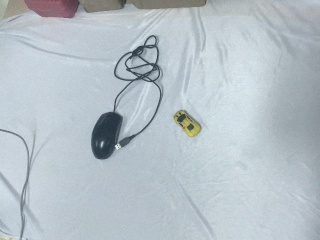mouse: (91, 112, 123, 160)
toy_car: (171, 107, 204, 139)
